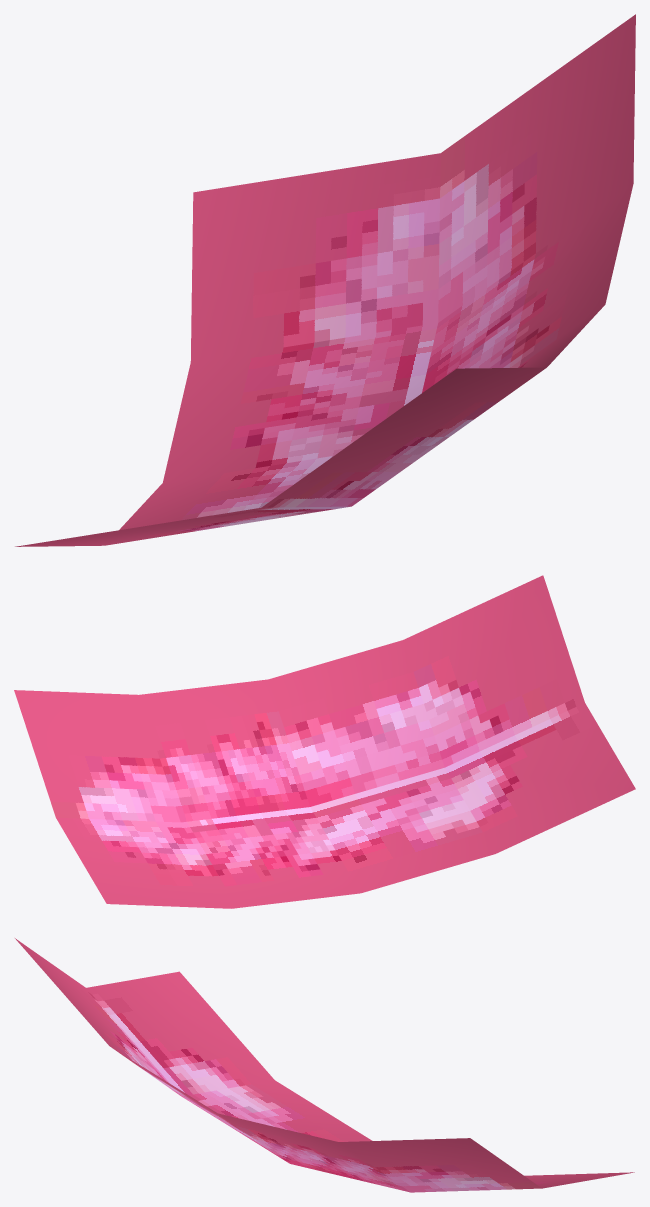
The model's file is cap_feather_pnk.dae.
3 views of the same model, one above another, from view 1: azimuth 30°, elevation 25°; view 2: azimuth 150°, elevation 25°; view 3: azimuth 270°, elevation 25° (orthographic). The views are drawn at different scales.
Visible parts, largest first — view 1: cap_feather_pnk; view 2: cap_feather_pnk; view 3: cap_feather_pnk.
Boxes of the visible parts, x1,y1,x2,y2 form: cap_feather_pnk: (15,14,635,546); cap_feather_pnk: (14,575,635,908); cap_feather_pnk: (15,938,634,1192).
Size of the model in its own units: 12.55 by 4.77 by 13.08.
1 material, 1 textured.
